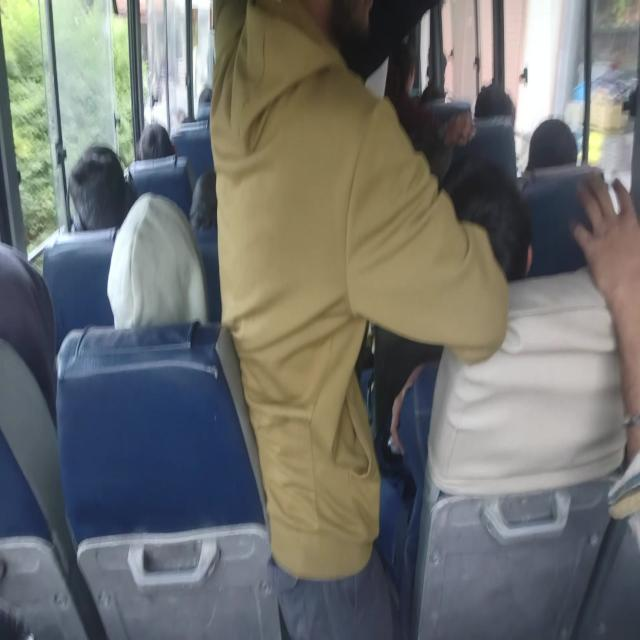person: (214, 0, 414, 499), (0, 261, 54, 474), (118, 203, 205, 331), (464, 175, 542, 308), (70, 156, 127, 252), (538, 108, 592, 182), (470, 83, 532, 129), (424, 54, 470, 109), (440, 152, 498, 193), (190, 161, 212, 237), (190, 79, 226, 124), (132, 118, 174, 154), (391, 44, 420, 96)
